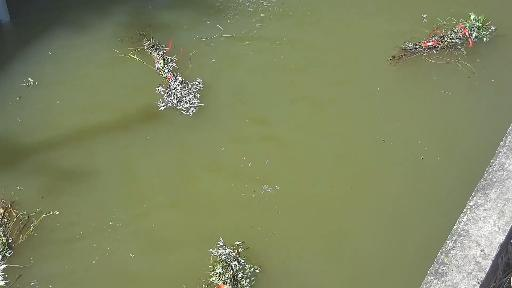twig: (96, 30, 212, 120), (374, 8, 501, 77), (0, 187, 65, 288), (207, 245, 256, 288)
